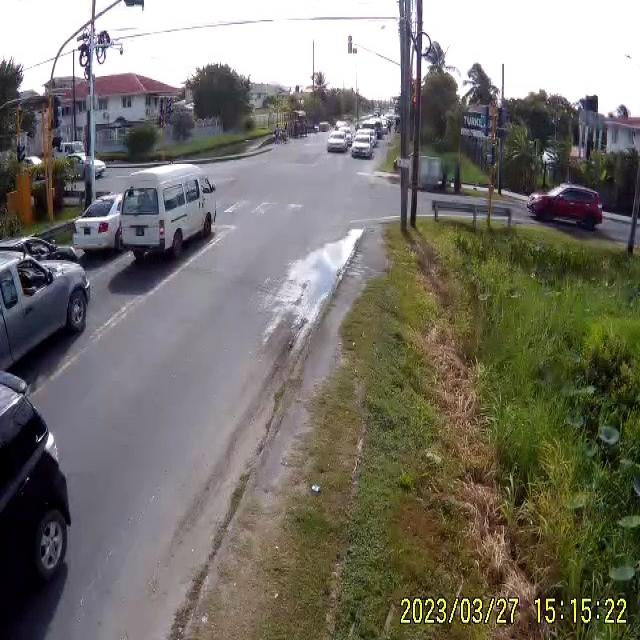car: (1, 248, 92, 374), (108, 166, 212, 258), (527, 184, 605, 230), (73, 191, 127, 257), (326, 133, 349, 156), (352, 140, 375, 160)
